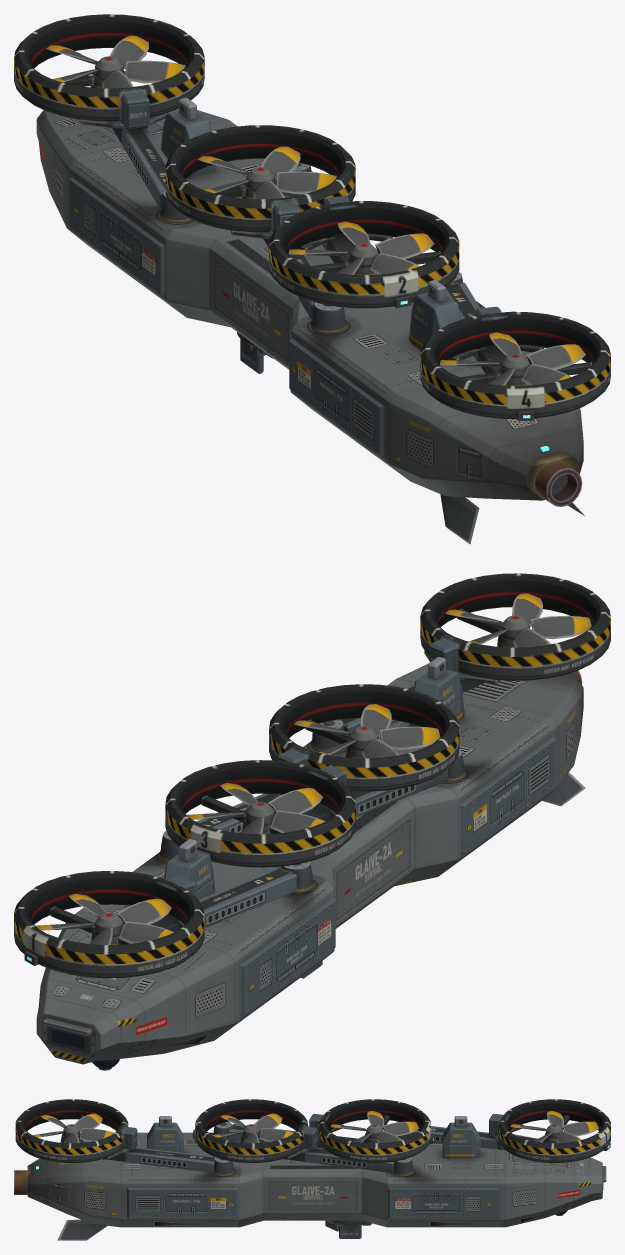
Rendered from Glaive2A.fbx.
3 renders of one model, top to bottom at view 1: azimuth 30°, elevation 25°; view 2: azimuth 150°, elevation 25°; view 3: azimuth 270°, elevation 25°, orthographic. The views are drawn at different scales.
Visible parts, largest first — view 1: Skin, ArmFL, ArmRR, ArmFR, ArmRL, RotorRL, RotorFL, RotorRR, RotorFR; view 2: Skin, ArmFL, ArmRL, ArmRR, ArmFR, RotorFR, RotorRR, RotorRL, RotorFL; view 3: Skin, ArmRR, ArmFR, ArmFL, ArmRL, RotorFL, RotorRR, RotorRL, RotorFR, TurretYaw.
Boxes of the visible parts, <box> form: Skin: <box>36,97,584,544</box>; ArmFL: <box>14,14,204,222</box>; ArmRR: <box>420,271,610,419</box>; ArmFR: <box>269,163,459,308</box>; ArmRL: <box>165,125,355,333</box>; RotorRL: <box>198,146,336,199</box>; RotorFL: <box>46,35,184,88</box>; RotorRR: <box>440,332,585,385</box>; RotorFR: <box>288,221,434,274</box>; Skin: <box>36,656,585,1064</box>; ArmFL: <box>14,861,314,978</box>; ArmRL: <box>165,749,465,867</box>; ArmRR: <box>310,573,610,752</box>; ArmFR: <box>159,684,459,862</box>; RotorFR: <box>294,704,440,758</box>; RotorRR: <box>445,593,591,647</box>; RotorRL: <box>186,783,325,834</box>; RotorFL: <box>35,893,173,944</box>; Skin: <box>14,1116,606,1240</box>; ArmRR: <box>15,1099,233,1176</box>; ArmFR: <box>195,1099,413,1176</box>; ArmFL: <box>396,1099,610,1162</box>; ArmRL: <box>212,1099,431,1162</box>; RotorFL: <box>510,1111,598,1143</box>; RotorRR: <box>32,1113,114,1143</box>; RotorRL: <box>330,1111,419,1143</box>; RotorFR: <box>212,1113,293,1143</box>; TurretYaw: <box>325,1220,361,1238</box>.
Size of what is drawn, in the model's own units: 49 by 50.7 by 242.
4 materials, 1 textured.
